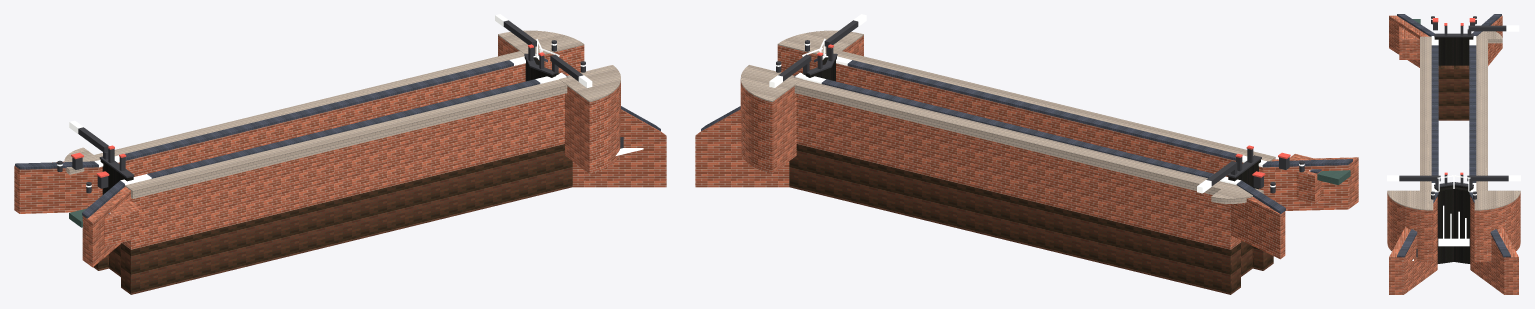
Rendered from lock-58.glb.
3 renders of one model, left to right at view 1: azimuth 30°, elevation 25°; view 2: azimuth 150°, elevation 25°; view 3: azimuth 270°, elevation 25°, orthographic. The views are drawn at different scales.
Parts seen in each view (by area): view 1: Chamber, ChamberWet, Edge, Coping.001, TopGateCap, Coping, TopGate; view 2: Chamber, ChamberWet, Edge, Coping.001, TopGateCap, Coping, TopGate; view 3: Chamber, Edge, TopGate, Coping.001, ChamberWet, TopGateCap, Coping, Leak, PaddleTop.
Part boxes in pixels (left/top/right/bottom): Chamber: left=14, top=36, right=666, bottom=267; ChamberWet: left=93, top=144, right=572, bottom=294; Edge: left=64, top=30, right=620, bottom=198; Coping.001: left=15, top=55, right=660, bottom=218; TopGateCap: left=57, top=20, right=623, bottom=193; Coping: left=57, top=14, right=592, bottom=187; TopGate: left=100, top=56, right=559, bottom=194; Chamber: left=695, top=35, right=1358, bottom=259; ChamberWet: left=789, top=144, right=1273, bottom=294; Edge: left=740, top=30, right=1275, bottom=203; Coping.001: left=701, top=55, right=1352, bottom=214; TopGateCap: left=776, top=20, right=1304, bottom=193; Coping: left=769, top=14, right=1304, bottom=193; TopGate: left=802, top=57, right=1260, bottom=189; Chamber: left=1387, top=15, right=1520, bottom=294; Edge: left=1387, top=31, right=1520, bottom=210; TopGate: left=1434, top=37, right=1473, bottom=263; Coping.001: left=1397, top=14, right=1510, bottom=257; ChamberWet: left=1438, top=65, right=1469, bottom=120; TopGateCap: left=1399, top=16, right=1508, bottom=257; Coping: left=1387, top=18, right=1520, bottom=195; Leak: left=1412, top=205, right=1469, bottom=260; PaddleTop: left=1432, top=18, right=1475, bottom=174.
Size of the model in its own units: 32.64 by 6.86 by 9.04.
11 materials, 8 textured.
